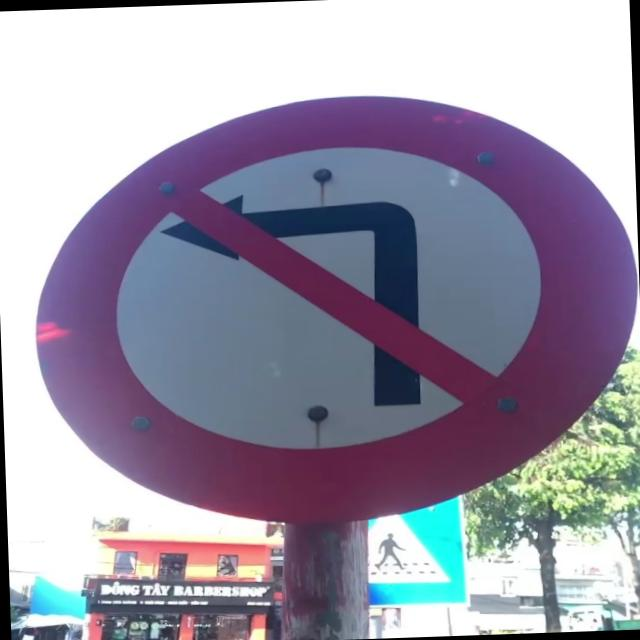Cam_Re_Trai: (41, 82, 640, 543)
